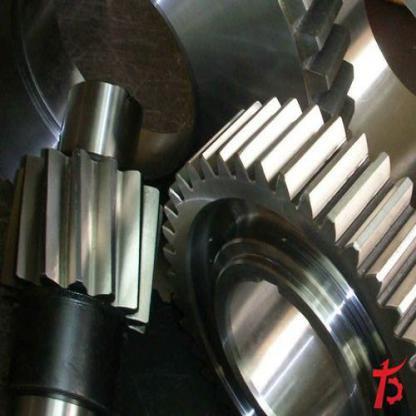FOD: (162, 91, 416, 415), (0, 133, 169, 342)
